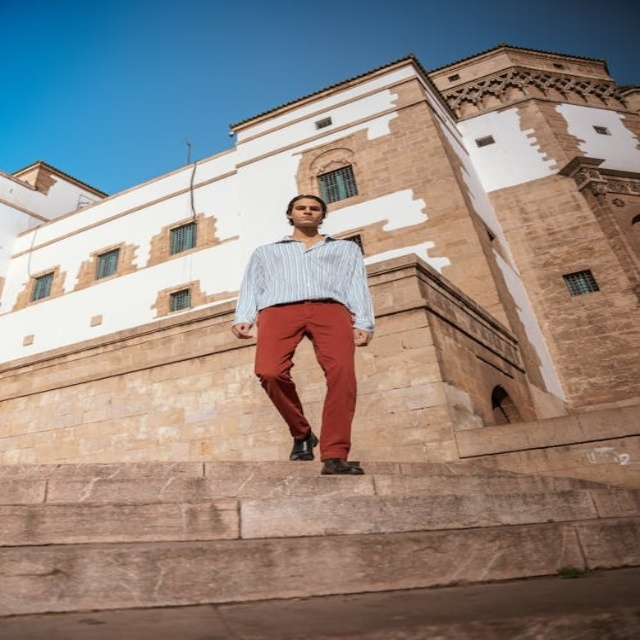Sin_gafas: (292, 206, 323, 211)
Sin_guantes: (348, 323, 380, 348), (227, 316, 256, 340)
Sin_mascara: (301, 214, 314, 218)
